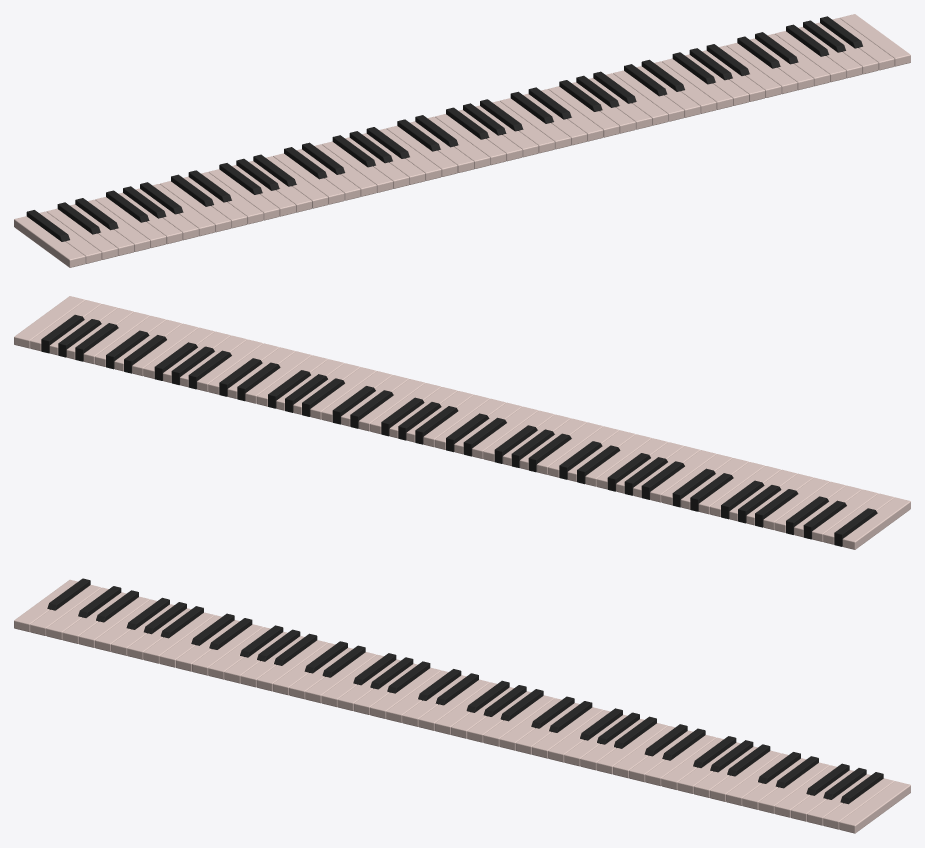
Rendered from piano.glb.
3 renders of one model, top to bottom at view 1: azimuth 30°, elevation 25°; view 2: azimuth 150°, elevation 25°; view 3: azimuth 330°, elevation 25°, orthographic.
Parts seen in each view (by area): view 1: key_a_0, key_c_8, key_f_4, key_c_3, key_c_4, key_c_6, key_f_1, key_f_5, key_f_6, key_c_1, key_f_2, key_c_7 (+40 smaller); view 2: key_a_0, key_c_8, key_c_3, key_c_5, key_f_5, key_c_7, key_f_7, key_c_1, key_c_2, key_f_2, key_c_4, key_f_4 (+76 smaller); view 3: key_c_8, key_b_7, key_b_4, key_e_1, key_e_6, key_b_0, key_e_2, key_e_3, key_b_3, key_e_7, key_b_1, key_b_2 (+40 smaller).
Boxes of the visible parts, x1,y1,x2,y2 form: key_a_0: [14, 216, 85, 267]; key_c_8: [839, 14, 910, 66]; key_f_4: [435, 114, 506, 165]; key_c_3: [273, 153, 344, 204]; key_c_4: [386, 126, 457, 176]; key_c_6: [613, 70, 684, 121]; key_f_1: [95, 197, 166, 247]; key_f_5: [548, 86, 619, 137]; key_f_6: [661, 58, 732, 109]; key_c_1: [46, 208, 117, 259]; key_f_2: [208, 169, 279, 220]; key_c_7: [726, 43, 797, 94]; key_a_0: [842, 497, 910, 549]; key_c_8: [14, 296, 85, 348]; key_c_3: [585, 434, 651, 486]; key_c_5: [358, 379, 424, 431]; key_f_5: [310, 367, 376, 419]; key_c_7: [132, 323, 198, 376]; key_f_7: [83, 312, 149, 364]; key_c_1: [812, 489, 878, 541]; key_c_2: [698, 462, 764, 514]; key_f_2: [650, 450, 716, 502]; key_c_4: [472, 406, 538, 458]; key_f_4: [423, 394, 489, 447]; key_c_8: [839, 781, 910, 833]; key_b_7: [823, 778, 894, 829]; key_b_4: [483, 695, 554, 746]; key_e_1: [78, 596, 149, 647]; key_e_6: [645, 735, 716, 786]; key_b_0: [30, 585, 101, 635]; key_e_2: [192, 624, 263, 675]; key_e_3: [305, 652, 376, 703]; key_b_3: [370, 668, 441, 718]; key_e_7: [758, 762, 829, 813]; key_b_1: [143, 612, 214, 663]; key_b_2: [256, 640, 327, 691].
Bounding box in the file's own units: 52 × 0.75 × 6.
